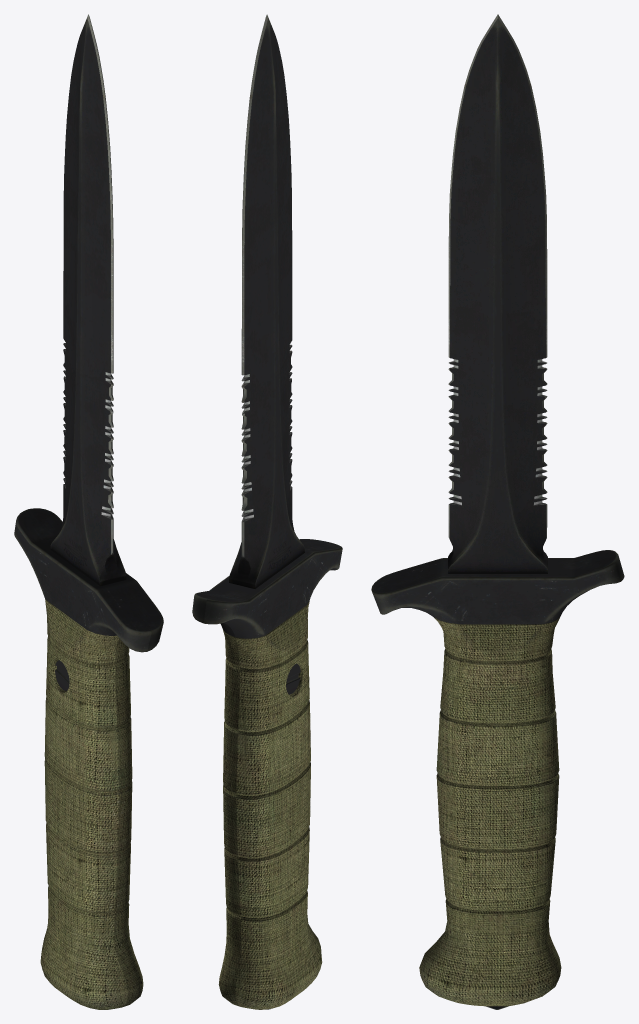
File: knife.FBX
The picture shows the model from 3 angles, left to right: view 1: azimuth 30°, elevation 25°; view 2: azimuth 150°, elevation 25°; view 3: azimuth 270°, elevation 25°; orthographic projection.
Parts seen in each view (by area): view 1: SMDImport; view 2: SMDImport; view 3: SMDImport.
Boxes of the visible parts, box(x1,y1,x2,y2) form: SMDImport: box(14, 14, 163, 1009); SMDImport: box(192, 14, 342, 1009); SMDImport: box(371, 14, 624, 1009).
Size of the model in its own units: 1.09 by 3.5 by 15.18.
